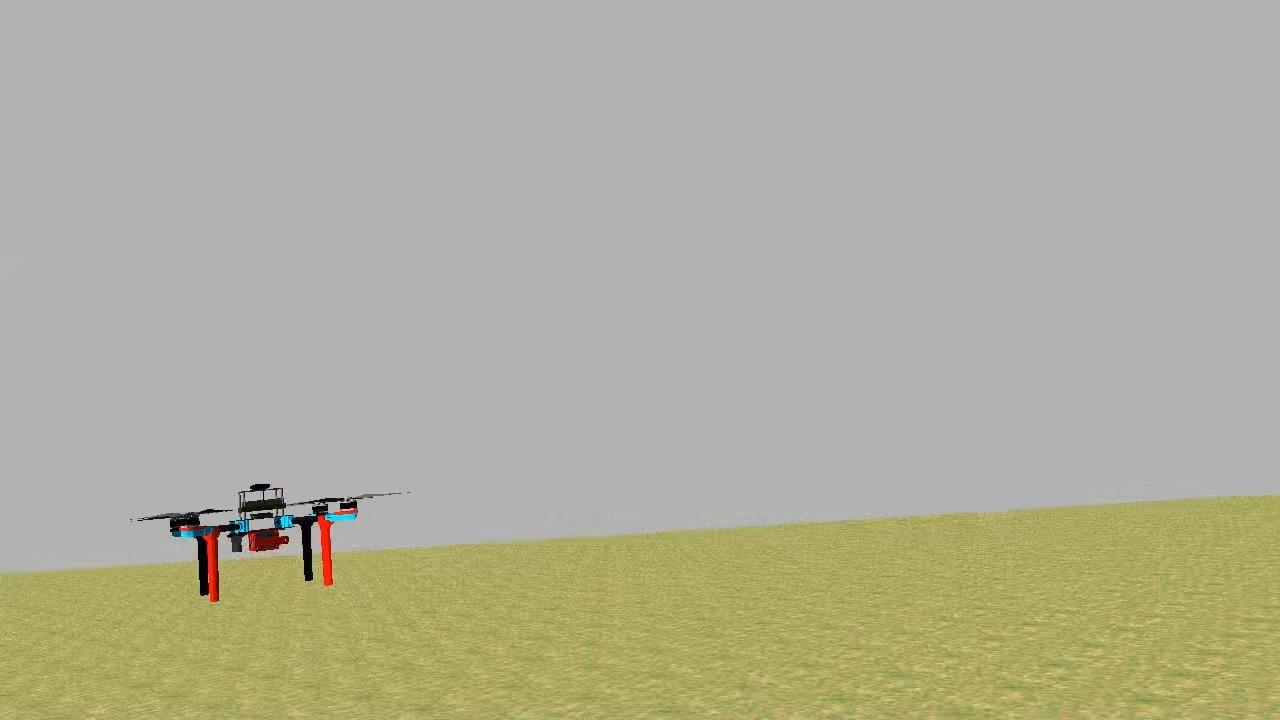UAV: (168, 480, 360, 604)
